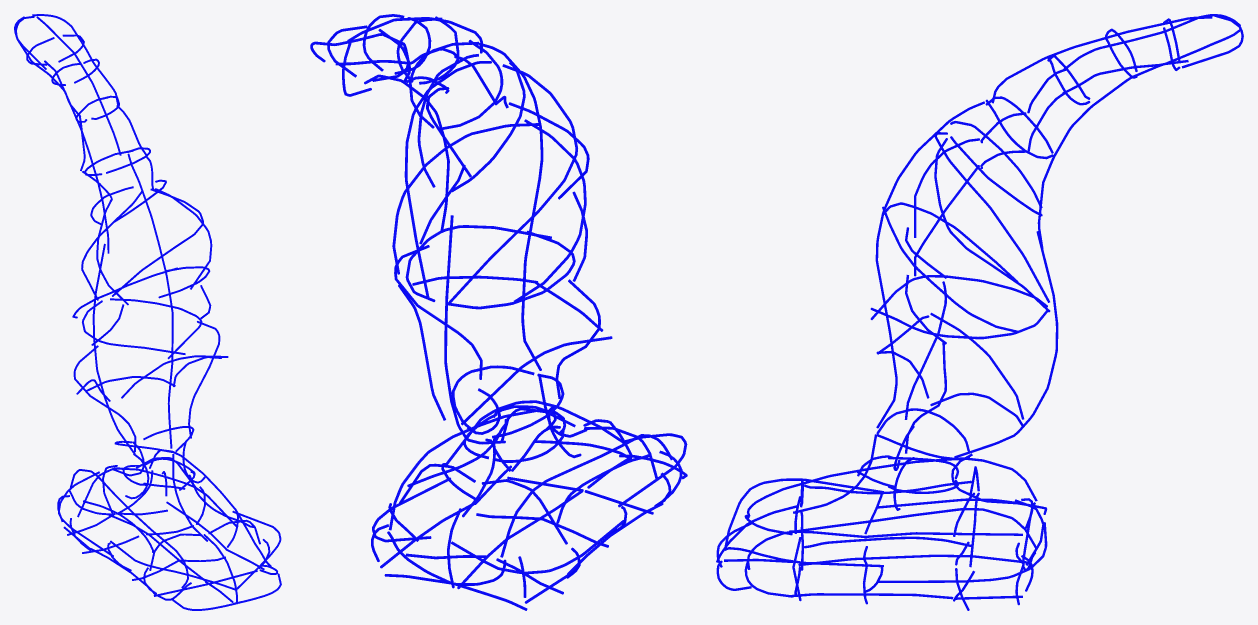
The model's file is cassie_vacuum.glb.
The picture shows the model from 3 angles, left to right: view 1: azimuth 30°, elevation 25°; view 2: azimuth 150°, elevation 25°; view 3: azimuth 270°, elevation 25°; orthographic projection. The views are drawn at different scales.
Visible parts, largest first — view 1: cassie_vacuum; view 2: cassie_vacuum; view 3: cassie_vacuum.
Boxes of the visible parts, box(x1,y1,x2,y2) form: cassie_vacuum: box(14, 14, 281, 610); cassie_vacuum: box(310, 14, 687, 610); cassie_vacuum: box(716, 14, 1243, 610).
Size of the model in its own units: 0.3529 by 1 by 0.857.
